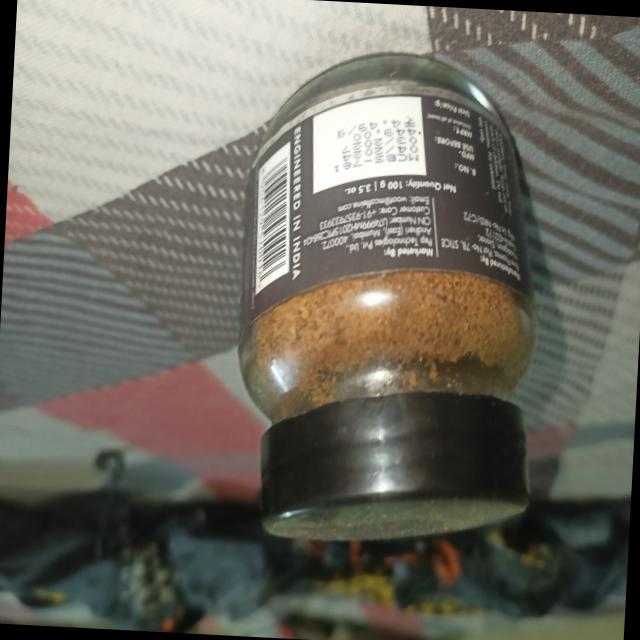glass: (213, 37, 572, 569)
